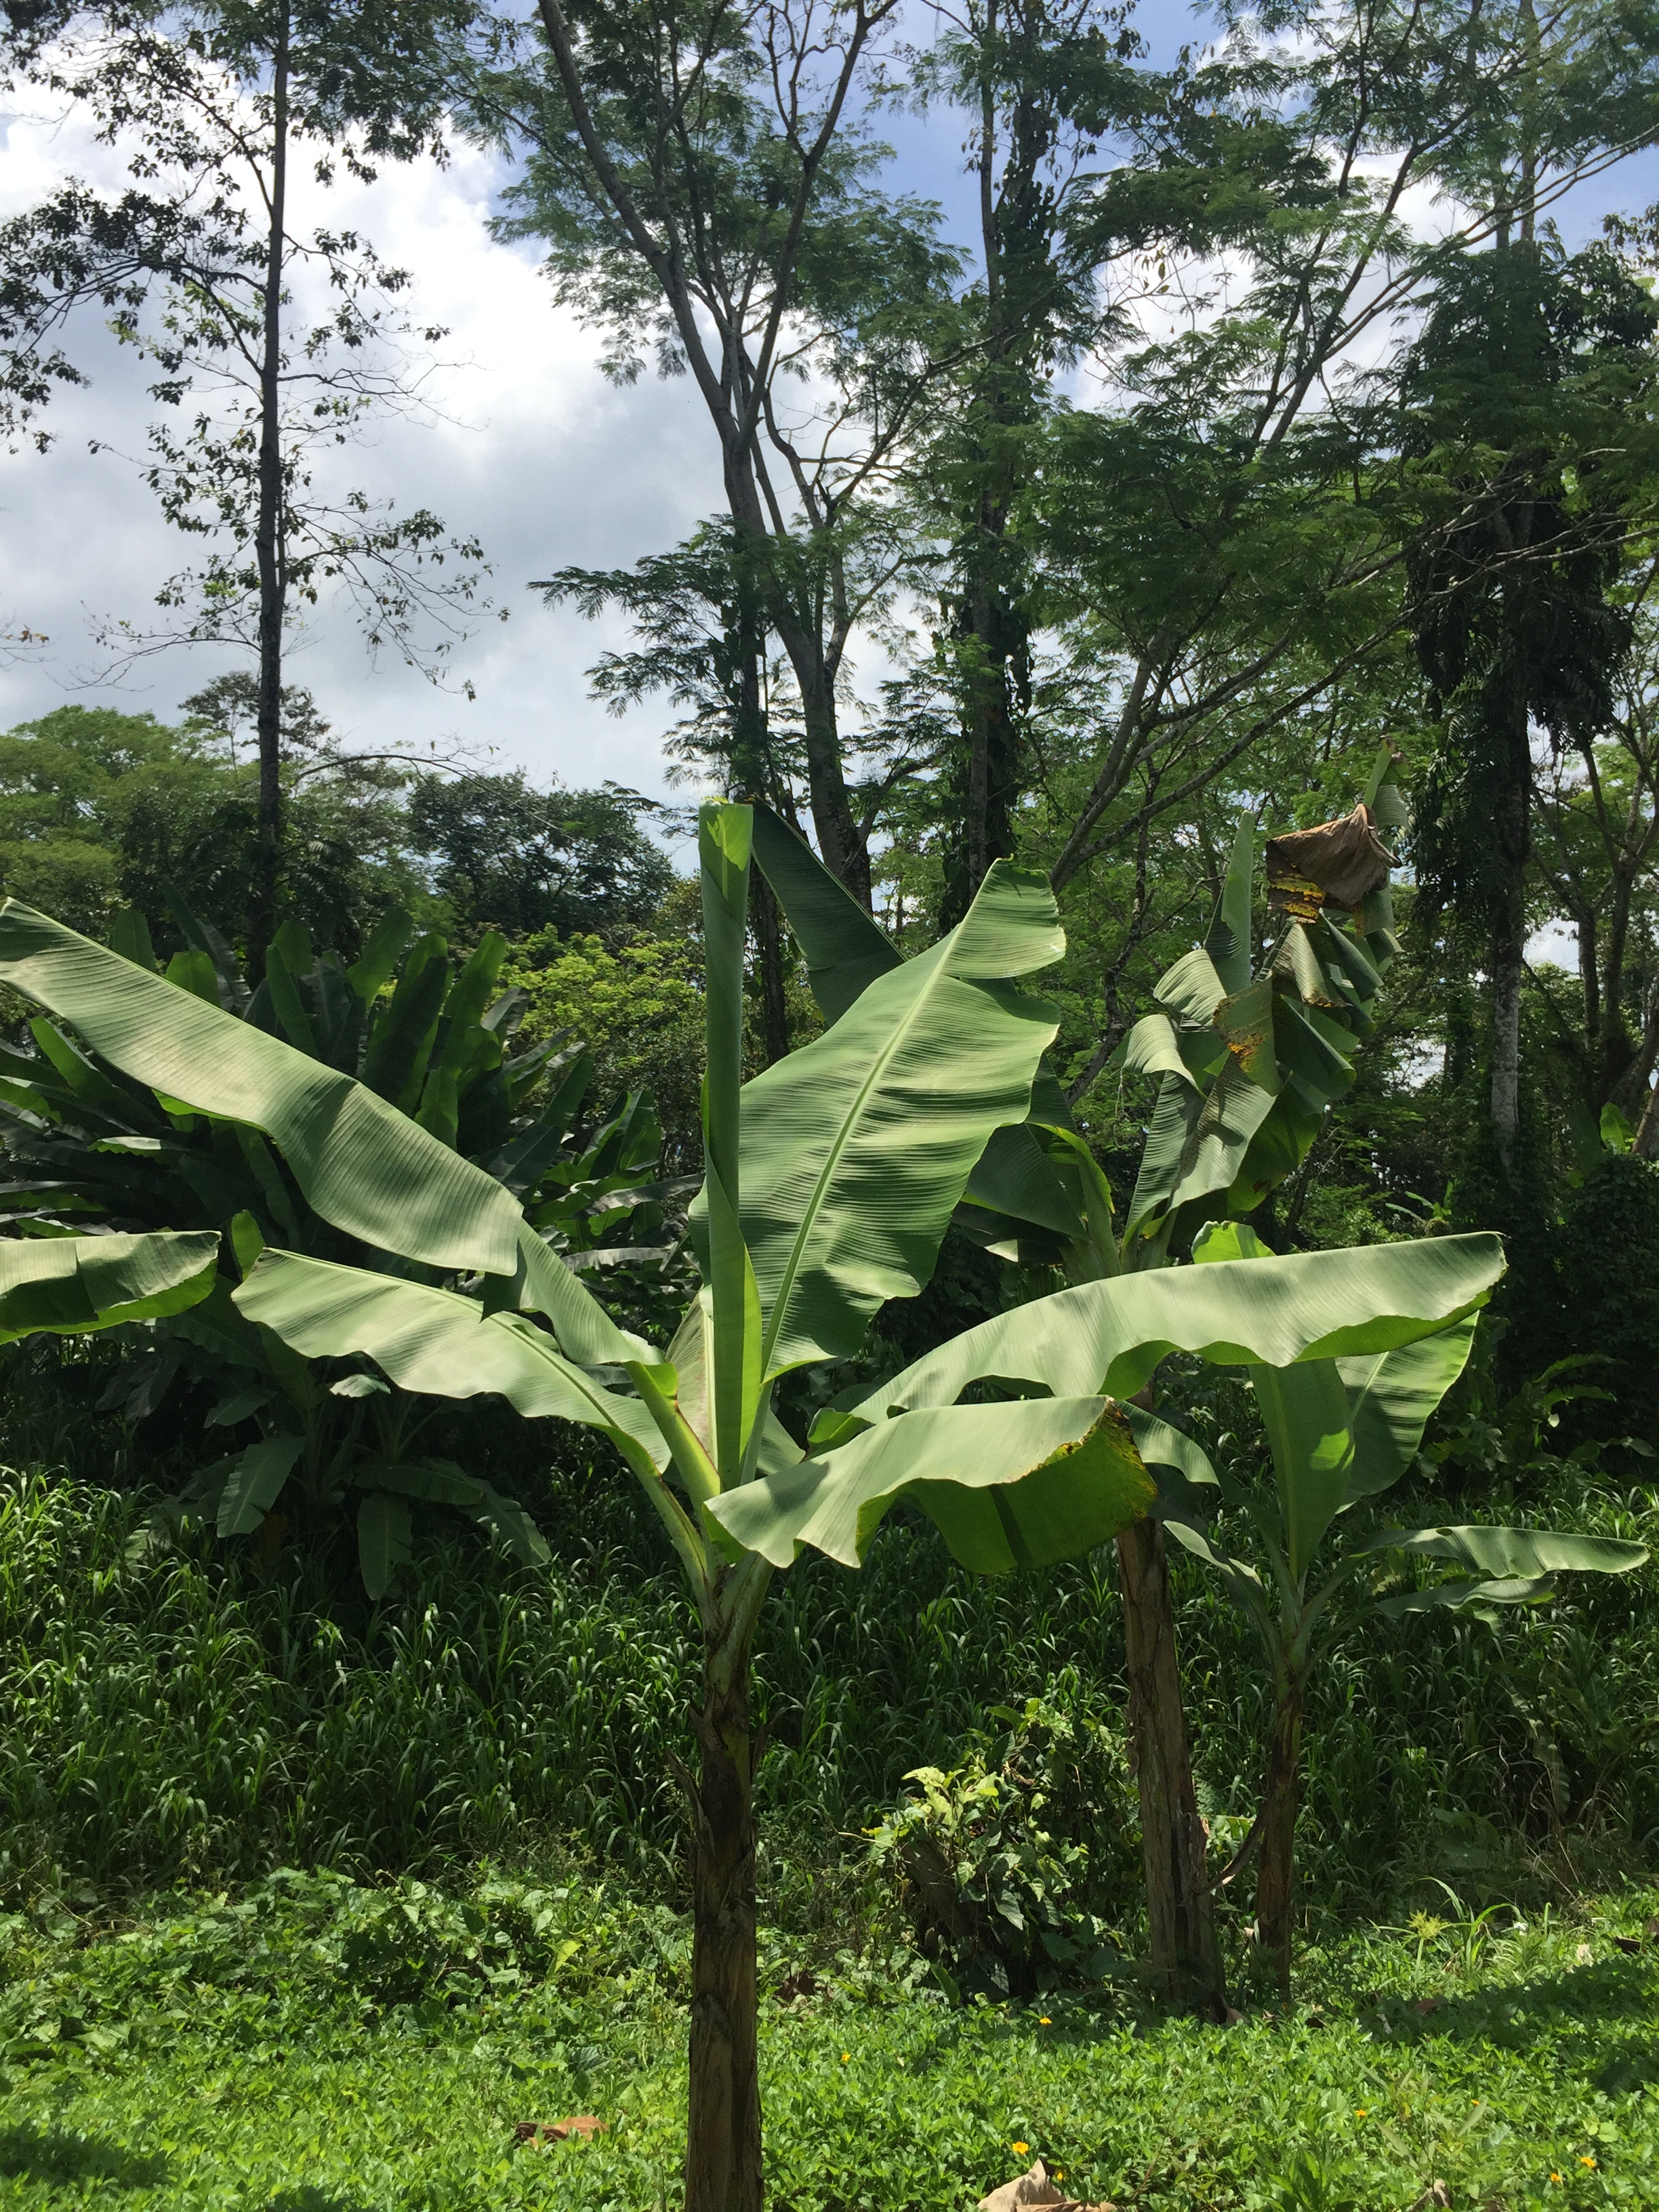candleleafs: (699, 803, 744, 1487)
